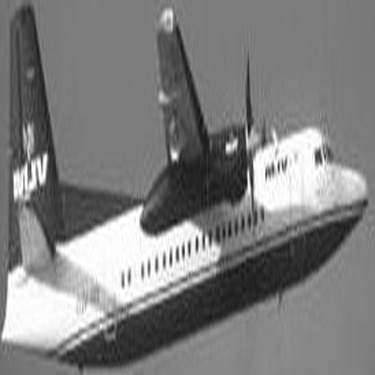airplane: (6, 1, 366, 361)
